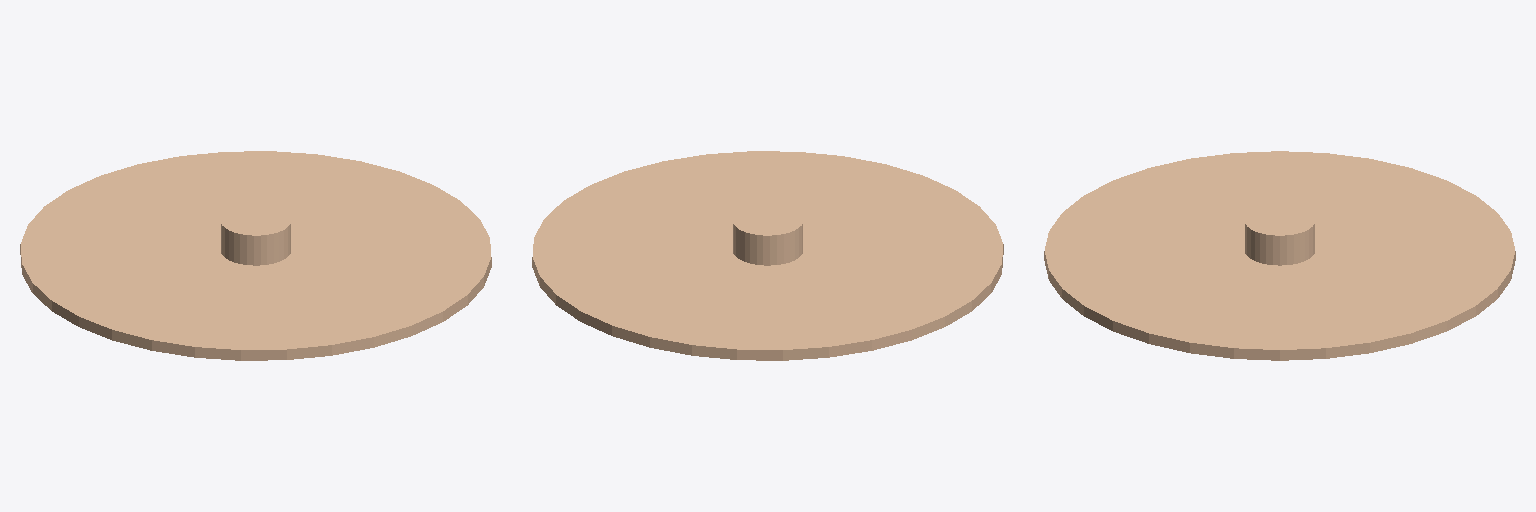
URDF robot description (altar):
<?xml version="1.0"?>
<robot name="altar">
  <link name="base_link">
    <visual>
      <origin xyz="0 0 -0.05" rpy="0 0 0" />
      <geometry>
        <cylinder radius="2" length="0.1" />
      </geometry>
      <material name="desert sand">
        <color rgba="0.9297 0.7930 0.6758 1" />
      </material>
    </visual>

    <visual>
      <origin xyz="0 0 0.14" rpy="0 0 0" />
      <geometry>
        <cylinder radius="0.3" length="0.28" />
      </geometry>
      <material name="desert sand">
        <color rgba="0.9297 0.7930 0.6758 1" />
      </material>
    </visual>

    <collision>
      <origin xyz="0 0 -0.05" rpy="0 0 0" />
      <geometry>
        <cylinder radius="2" length="0.1" />
      </geometry>
    </collision>

    <collision>
      <origin xyz="0 0 0.14" rpy="0 0 0" />
      <geometry>
        <cylinder radius="0.3" length="0.28" />
      </geometry>
      <material name="desert sand">
        <color rgba="0.9297 0.7930 0.6758 1" />
      </material>
    </collision>

  </link>

</robot>

--- What the picture shows (computed from the rendered views, not written in the file) ---
The picture shows the robot from 3 angles, left to right: view 1: azimuth 30°, elevation 25°; view 2: azimuth 150°, elevation 25°; view 3: azimuth 270°, elevation 25°; orthographic projection.
Model altar with 1 links and 0 joints (none), rooted at base_link, posed every joint at zero.
Visible links, largest first — view 1: base_link; view 2: base_link; view 3: base_link.
Link boxes in pixels (x1=…): base_link: x1=20, y1=151, x2=491, y2=360; base_link: x1=532, y1=151, x2=1003, y2=360; base_link: x1=1044, y1=151, x2=1515, y2=360.
Size in the robot's own frame: 4 by 4 by 0.38 metres.
Geometry: primitives only (box / cylinder / sphere), no mesh files.